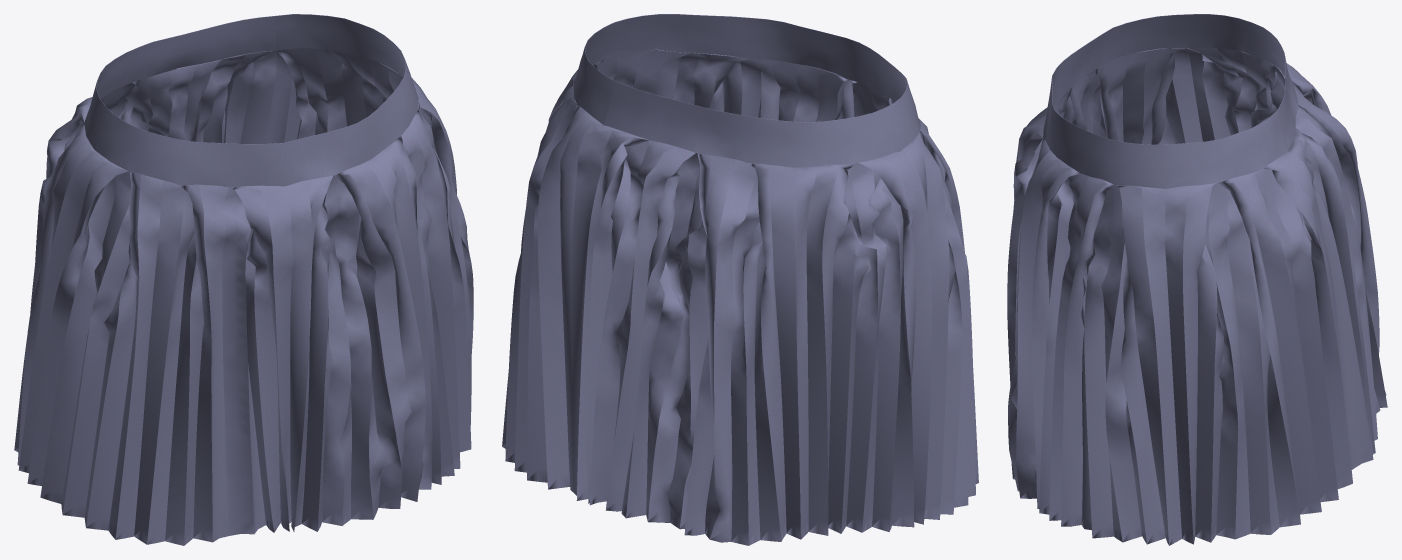
3 renders of one model, left to right at view 1: azimuth 30°, elevation 25°; view 2: azimuth 150°, elevation 25°; view 3: azimuth 270°, elevation 25°, orthographic. The views are drawn at different scales.
Parts seen in each view (by area): view 1: Pattern2D_1251758, Pattern2D_1251757, Pattern2D_1249878; view 2: Pattern2D_1251757, Pattern2D_1251758, Pattern2D_1249878; view 3: Pattern2D_1251758, Pattern2D_1251757, Pattern2D_1249878.
Boxes of the visible parts, <box> form: Pattern2D_1251758: <box>222,48,473,535</box>; Pattern2D_1251757: <box>14,50,277,545</box>; Pattern2D_1249878: <box>84,14,418,187</box>; Pattern2D_1251757: <box>571,97,978,545</box>; Pattern2D_1251758: <box>502,49,889,492</box>; Pattern2D_1249878: <box>573,14,920,167</box>; Pattern2D_1251758: <box>1007,92,1353,545</box>; Pattern2D_1251757: <box>1059,47,1387,468</box>; Pattern2D_1249878: <box>1043,14,1298,188</box>.
Size of the model in its own units: 46.45 by 42.57 by 37.68.
